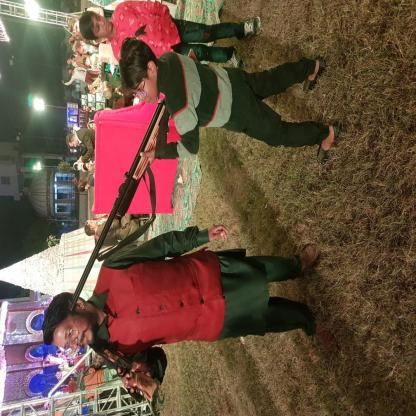rifle: (67, 44, 206, 313)
